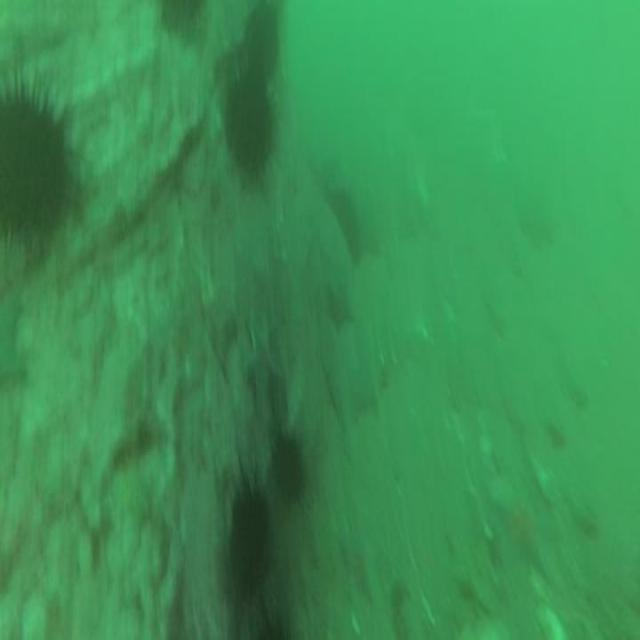echinus: (2, 98, 68, 248), (225, 82, 274, 174), (230, 493, 272, 591), (241, 6, 280, 79), (270, 440, 302, 502)
starfish: (491, 484, 553, 572), (242, 326, 282, 406), (325, 275, 351, 327)
